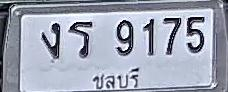1: (143, 18, 154, 56)
5: (186, 16, 204, 53)
7: (163, 17, 181, 55)
9: (115, 19, 134, 56)
A07: (41, 22, 60, 60)
A35: (68, 21, 92, 58)
CBI: (90, 64, 142, 92)
